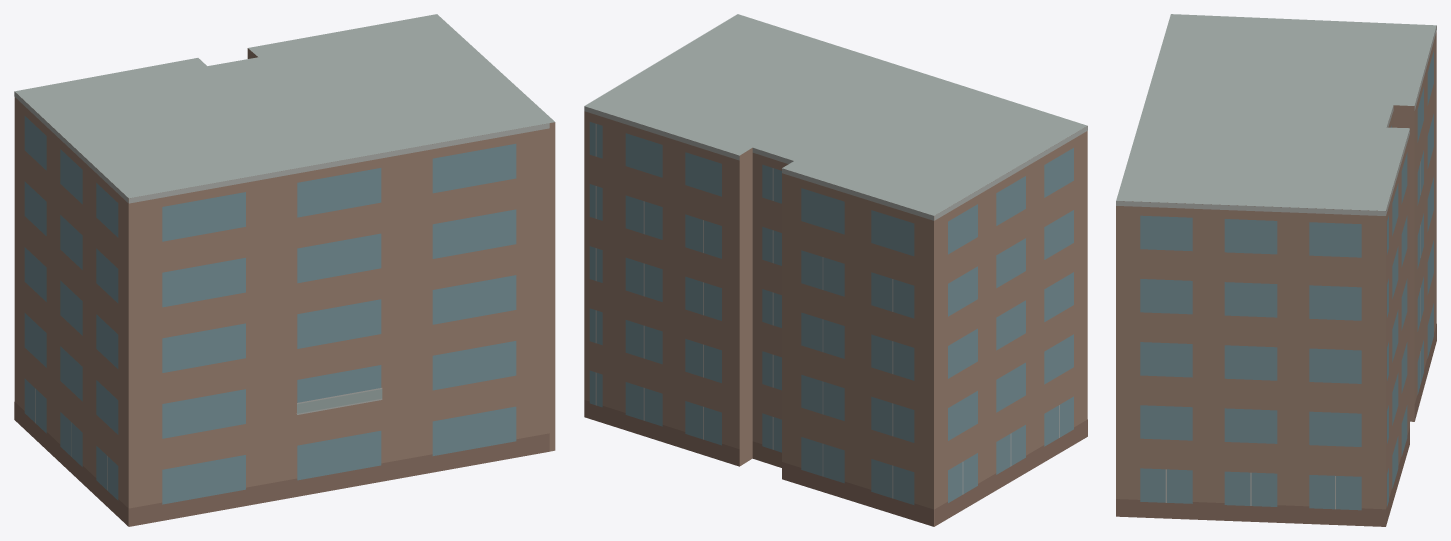
The model's file is survey-upis-32945555.glb.
3 views of the same model, side by side, from view 1: azimuth 30°, elevation 25°; view 2: azimuth 150°, elevation 25°; view 3: azimuth 270°, elevation 25° (orthographic). The views are drawn at different scales.
Parts seen in each view (by area): view 1: survey-upis-32945555.tmp; view 2: survey-upis-32945555.tmp; view 3: survey-upis-32945555.tmp.
Boxes of the visible parts, x1,y1,x2,y2 form: survey-upis-32945555.tmp: (14, 14, 555, 526); survey-upis-32945555.tmp: (584, 14, 1087, 526); survey-upis-32945555.tmp: (1116, 14, 1436, 526).
Size of the model in its own units: 20.42 by 15.25 by 14.04.
